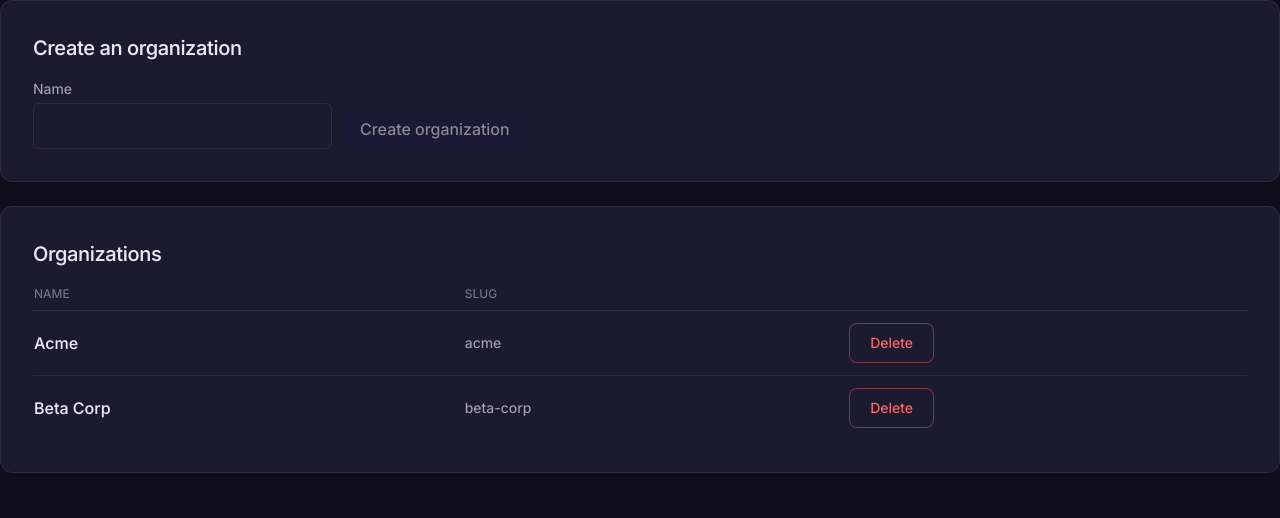
Test: AdminOrgs › surfaces a 409 ORG_NOT_EMPTY error inline without crashing
Expected: the text "Acme" is shown, [33,310,464,376]
Click the 1st button "Delete" at coordinates (892, 343), box [849,323,934,363]
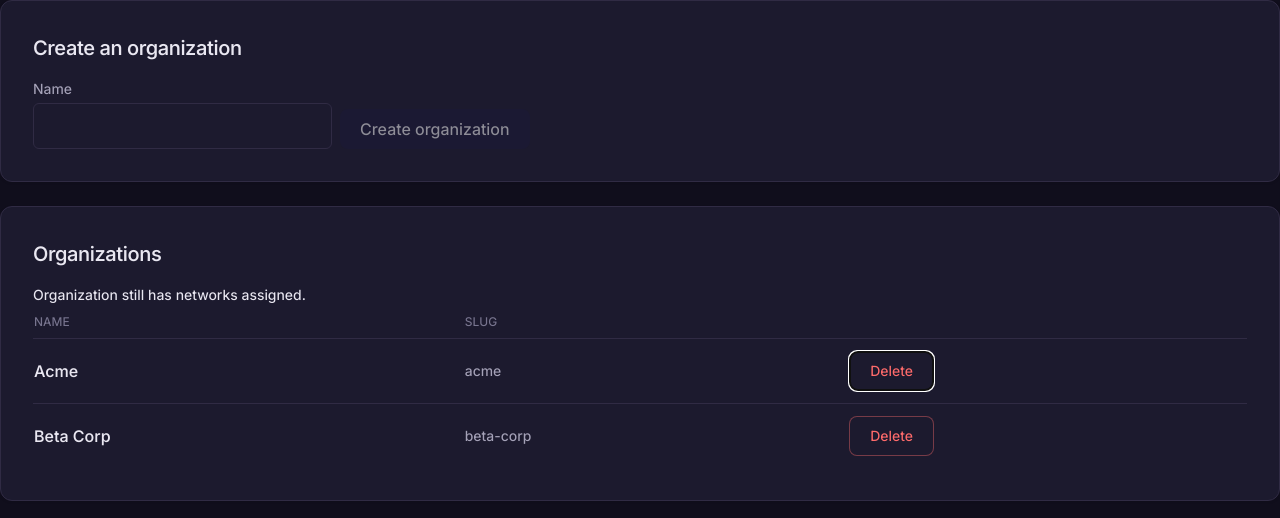
Expected: the text "Acme" is shown, [33,338,464,404]
Now the text "Organization still has networks assigned." is shown, box [33,286,306,303]
